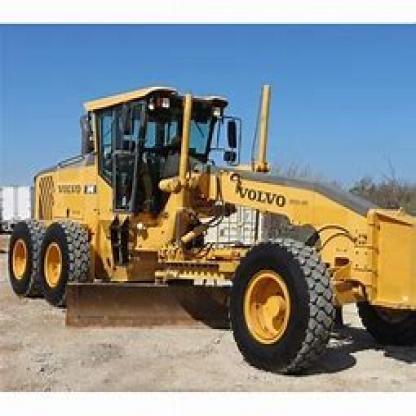bull_dozer/loader/grader: (0, 79, 414, 377)
